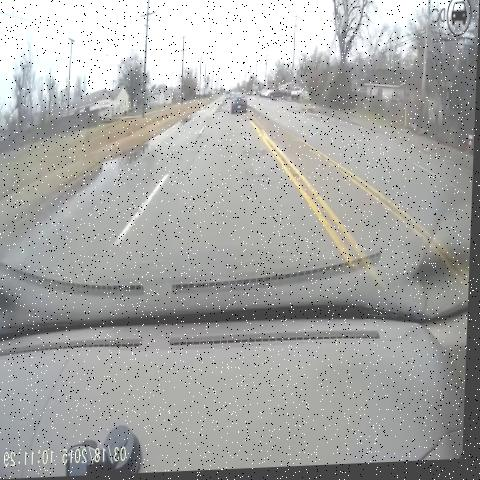pothole: (230, 142, 278, 195), (211, 107, 233, 122)
